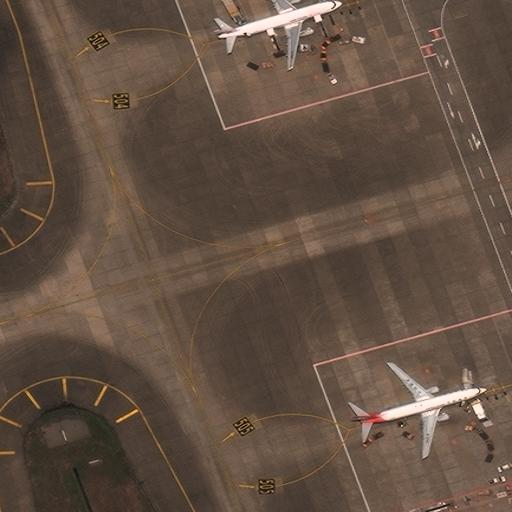Medium Civil Transport: (357, 360, 486, 457), (217, 0, 342, 67)
